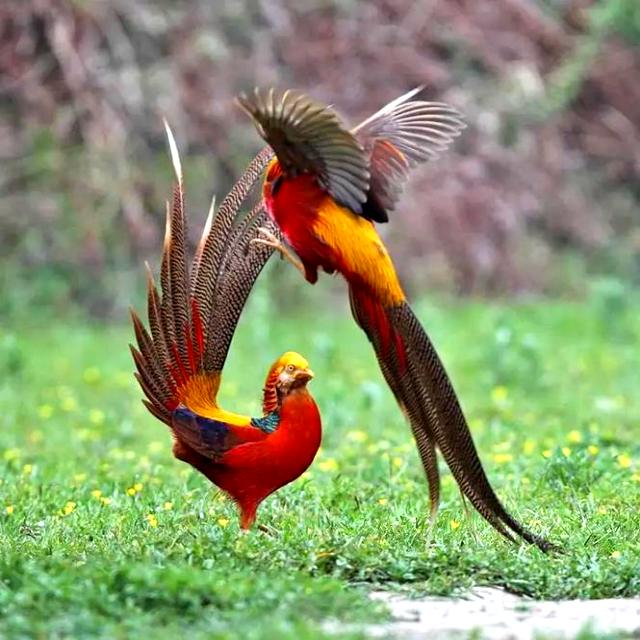Chrysolophus pictus feather: (351, 294, 568, 554), (132, 118, 276, 430)
